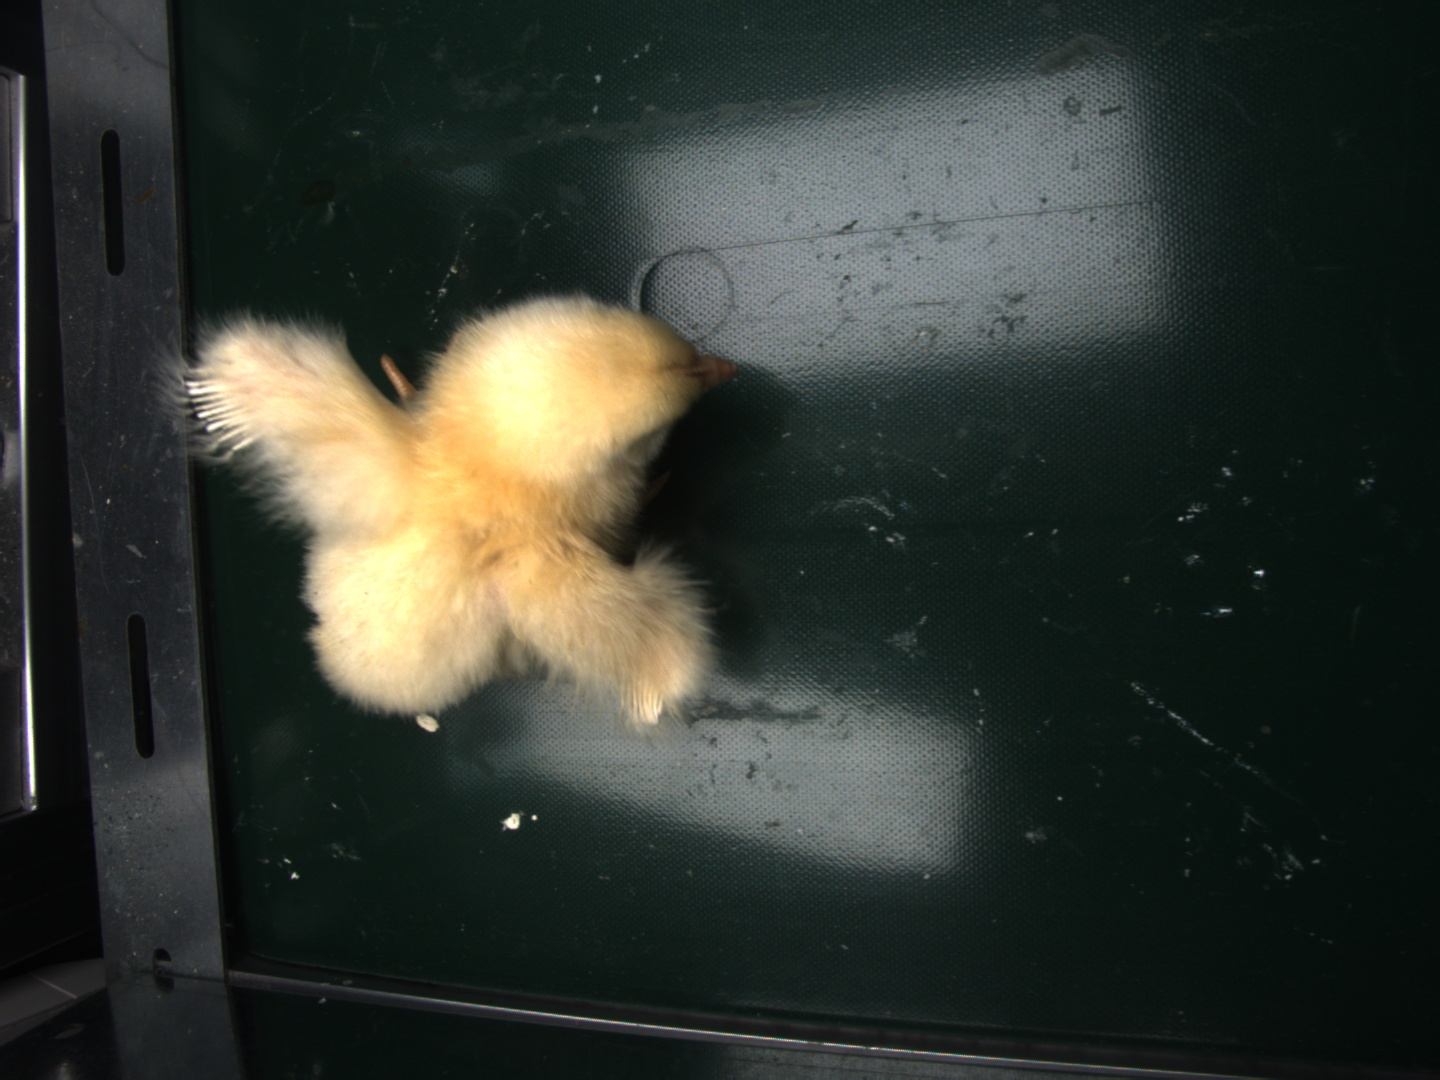male: (183, 370, 249, 453)
